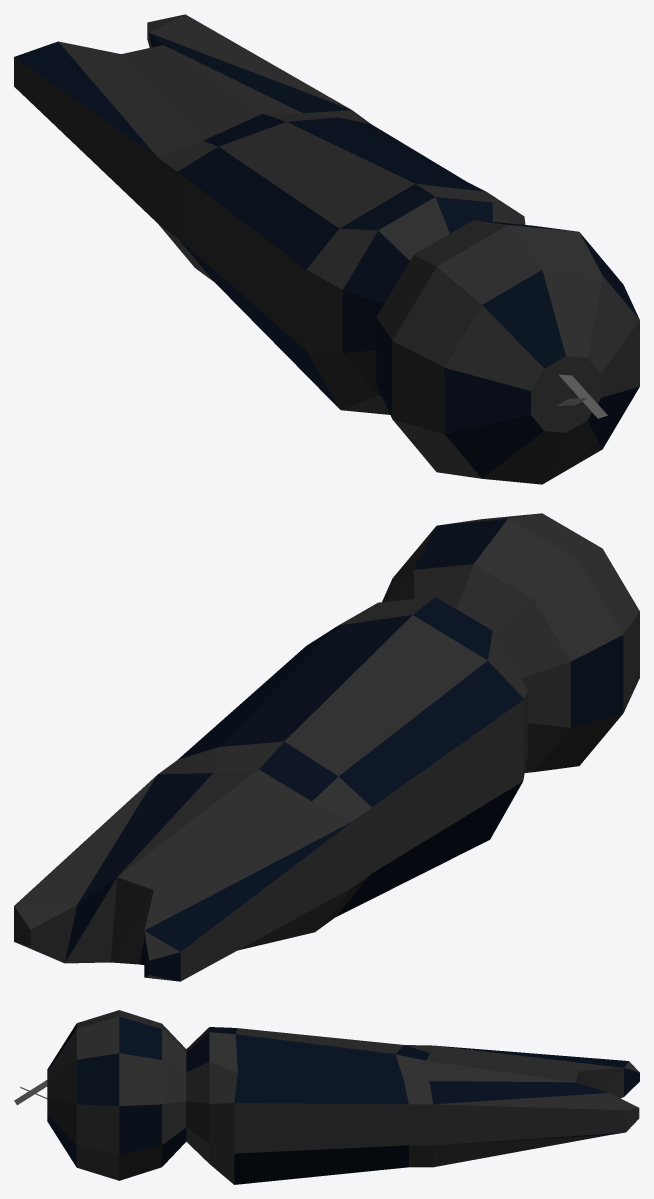
The model's file is cuerpo.glb.
3 renders of one model, top to bottom at view 1: azimuth 30°, elevation 25°; view 2: azimuth 150°, elevation 25°; view 3: azimuth 270°, elevation 25°, orthographic. The views are drawn at different scales.
Visible parts, largest first — view 1: Plane; view 2: Plane; view 3: Plane.
Boxes of the visible parts, x1,y1,x2,y2 form: Plane: (14, 14, 639, 484); Plane: (14, 513, 639, 981); Plane: (14, 1010, 639, 1184).
Bounding box in the file's own units: 2.26 × 2.43 × 8.55.
